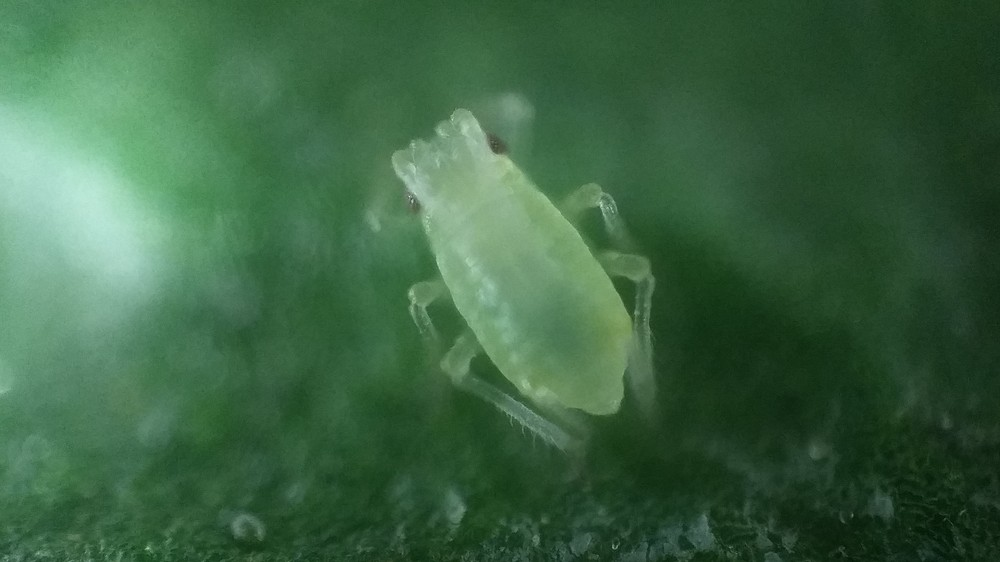Pulgon: (346, 103, 705, 481)
